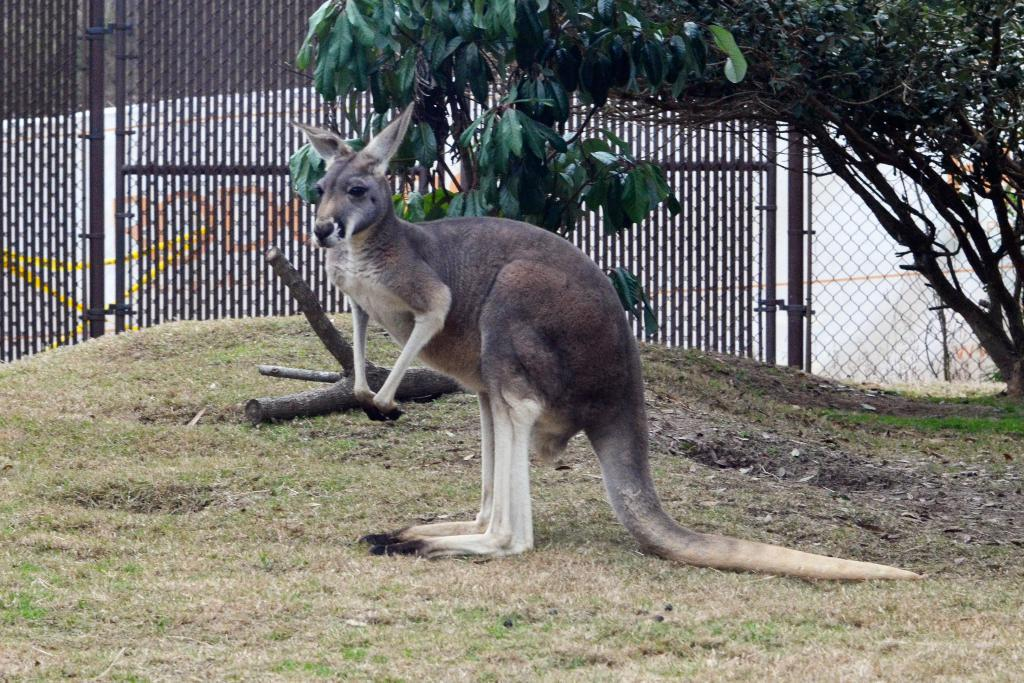kangaroo: (288, 101, 920, 582)
